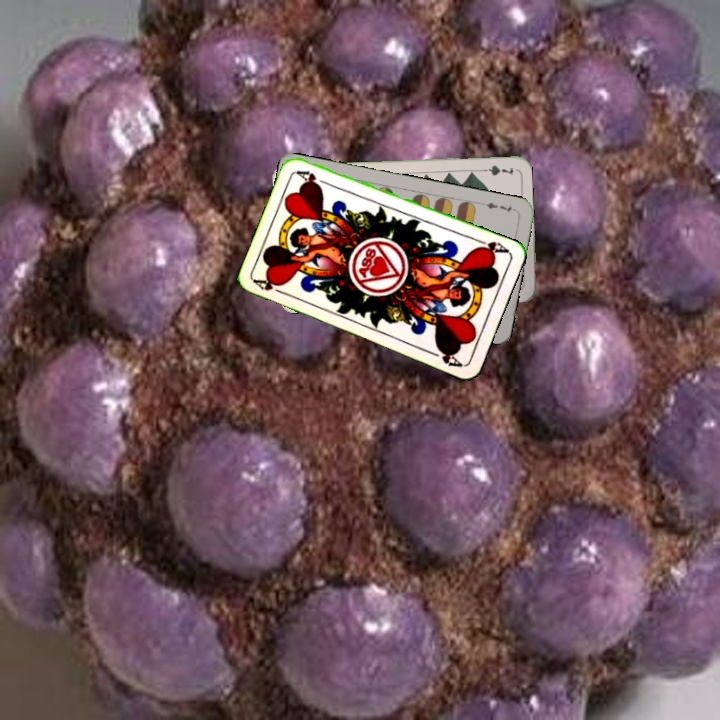E7: (478, 198, 518, 215)
G7: (475, 161, 516, 178)
HA: (471, 234, 511, 257), (251, 275, 290, 298)
